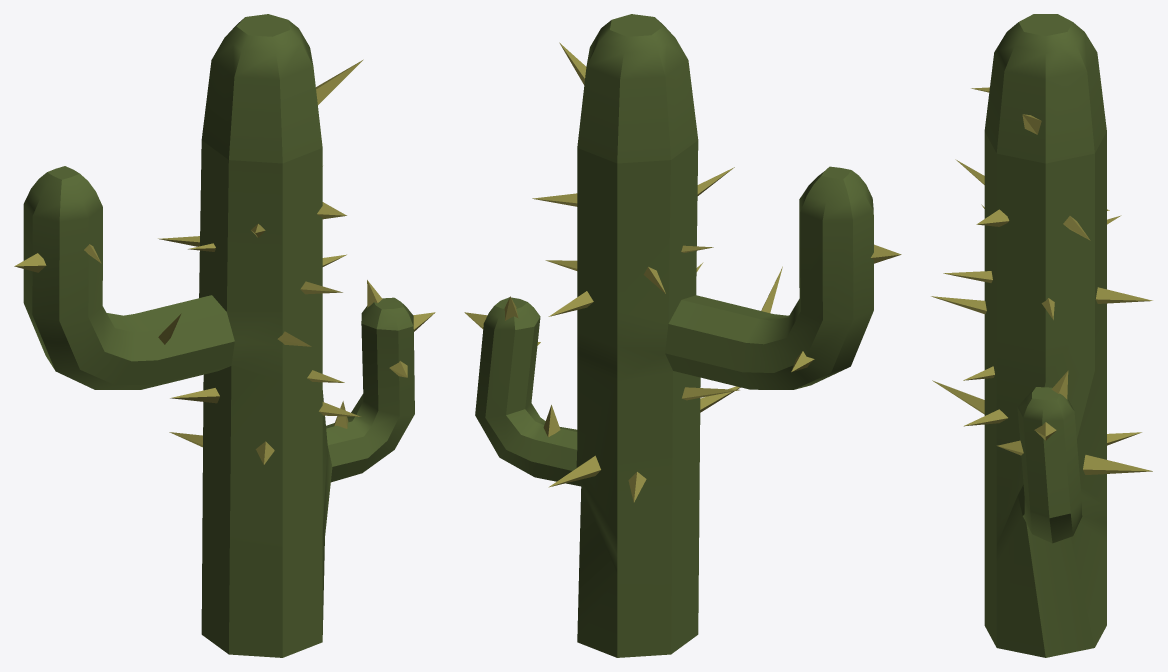
Rendered from Cactus01.fbx.
3 views of the same model, side by side, from view 1: azimuth 30°, elevation 25°; view 2: azimuth 150°, elevation 25°; view 3: azimuth 270°, elevation 25° (orthographic).
Parts seen in each view (by area): view 1: Cactus; view 2: Cactus; view 3: Cactus.
Part boxes in pixels (bbox=[...]): Cactus: bbox=[14, 14, 435, 657]; Cactus: bbox=[464, 14, 901, 657]; Cactus: bbox=[931, 14, 1152, 657].
Size of the model in its own units: 2.72 by 3.67 by 1.23.
